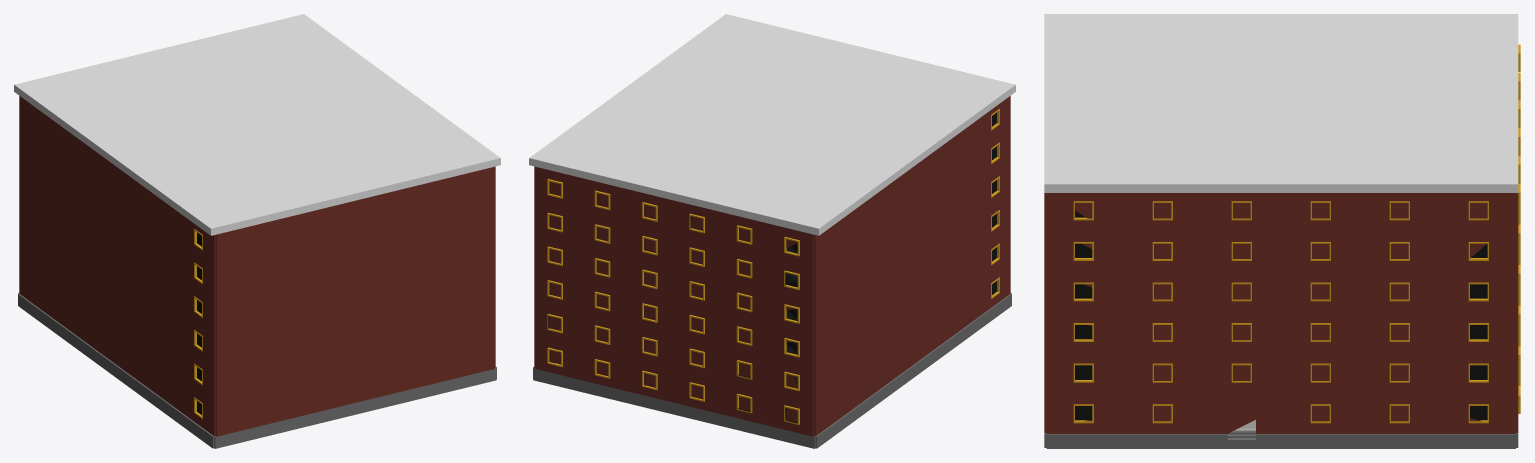
File: BCS30_F06_01.fbx
3 renders of one model, left to right at view 1: azimuth 30°, elevation 25°; view 2: azimuth 150°, elevation 25°; view 3: azimuth 270°, elevation 25°, orthographic. The views are drawn at different scales.
Visible parts, largest first — view 1: BCS30_F06_01; view 2: BCS30_F06_01; view 3: BCS30_F06_01.
Boxes of the visible parts, x1,y1,x2,y2 form: BCS30_F06_01: (14, 14, 500, 448); BCS30_F06_01: (529, 14, 1015, 448); BCS30_F06_01: (1044, 14, 1520, 448).
Size of the model in its own units: 2550 by 1860 by 3015.
